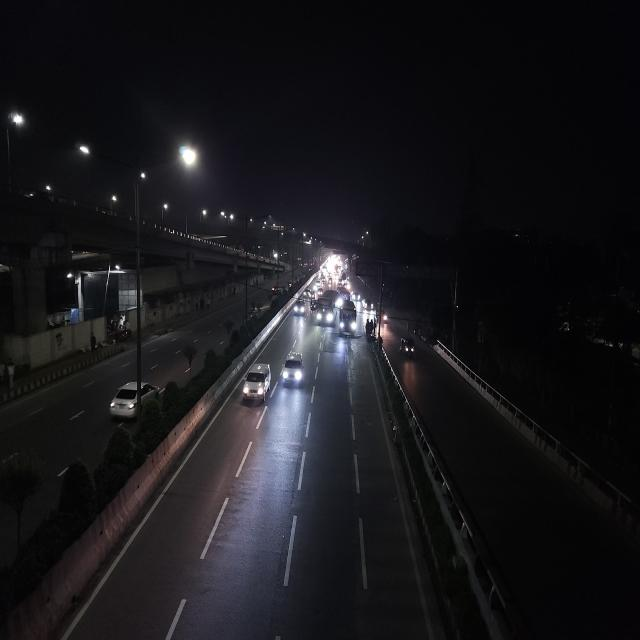bus: (312, 290, 340, 329), (339, 299, 357, 339)
car: (108, 376, 160, 426), (241, 360, 272, 410), (281, 350, 305, 390), (292, 299, 308, 317), (270, 284, 282, 296), (306, 289, 315, 302)
cng: (399, 336, 417, 358)
motorcycle: (380, 312, 389, 326)
pedestrian: (372, 317, 377, 338), (365, 317, 370, 337), (370, 318, 374, 336)
